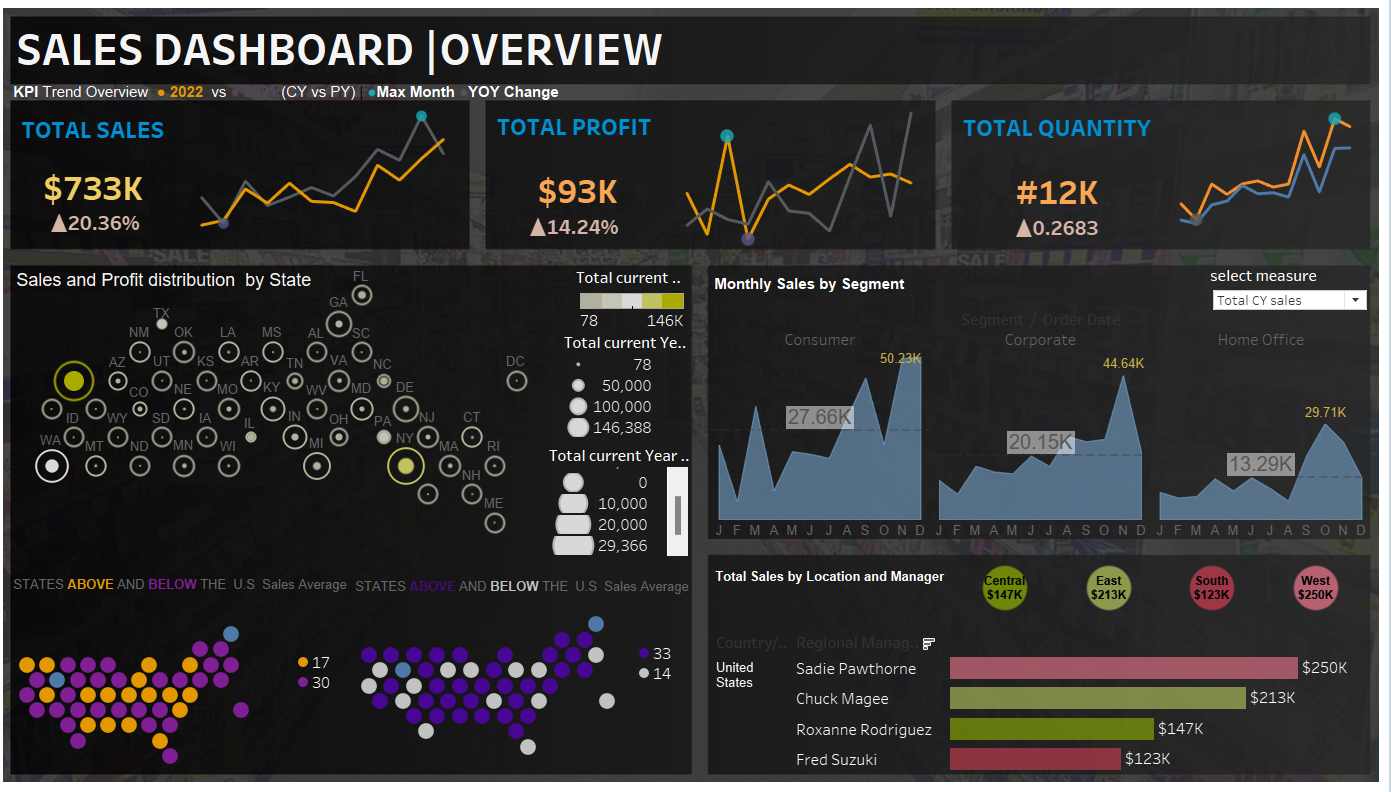

The page's visual inventory and layout, read from the dashboard file:
{"tool":"tableau","page":{"name":"sales dashboard","canvas":[1000,1000],"units":"permille","ordinal":0},"visuals":[{"type":"image","param":"C:/Users/USER/Desktop/data/datas/Sales Dashboard Background/Slide2.JPG","box":[5.7,10,988.6,980]},{"type":"text","box":[15.7,31.2,478.6,69.8]},{"type":"text","box":[13.6,111,472.1,21.2]},{"type":"worksheet","title":"PRO KPI ","mark":"Automatic","box":[353.6,132.2,125.7,187]},{"type":"worksheet","title":"Profit sparkline","mark":"Automatic","rows":["min max month (copy)_3950782831580618764"],"cols":["Order Date"],"box":[479.3,132.2,195,187]},{"type":"worksheet","title":"Sales KPI","mark":"Automatic","box":[14.3,133.4,117.1,184.5]},{"type":"worksheet","title":"Sales sparkline","mark":"Automatic","rows":["Calculation_3950782831573442571"],"cols":["Order Date"],"box":[131.4,133.4,210,184.5]},{"type":"worksheet","title":"qty KPI ","mark":"Automatic","box":[687.1,135.9,148.6,180.8]},{"type":"worksheet","title":"Qty sparkline ","mark":"Automatic","rows":["min max month profit (copy)_3950782831582687245"],"cols":["Order Date"],"box":[835.7,135.9,148.6,180.8]},{"type":"text","box":[15.7,337.9,224.3,37.4]},{"type":"parameter","param":"[Parameters].[Parameter 1]","box":[870.7,337.9,114.3,59.9]},{"type":"worksheet","title":"Sales & profit by state","mark":"Circle","rows":["Row"],"cols":["Column","Column"],"box":[15,340.4,384.3,354.1]},{"type":"legend","title":"Sales & profit by state","param":"[federated.0xhmtja18k0qlg1b3coiw0akdf86].[sum:Calculation_3950782831559045120:qk","box":[417.9,340.4,80,81]},{"type":"text","box":[514.3,342.9,152.9,37.4]},{"type":"worksheet","title":"Monthly sales by segments","mark":"Area","rows":["Calculation_3950782831653326869"],"cols":["Segment","Order Date"],"box":[513.6,392.8,472.1,288]},{"type":"legend","title":"Sales & profit by state","param":"[federated.0xhmtja18k0qlg1b3coiw0akdf86].[sum:Calculation_3950782831559045120:qk","box":[409.3,421.4,89.3,135.9]},{"type":"legend","title":"Sales & profit by state","param":"[federated.0xhmtja18k0qlg1b3coiw0akdf86].[sum:Total current Year sales (copy)_39","box":[398.6,562.3,100.7,138.4]},{"type":"worksheet","title":"Region wise sales","mark":"Circle","cols":["Region"],"box":[687.1,697,296.4,86]},{"type":"text","box":[515,708.2,168.6,37.4]},{"type":"text","box":[13.6,720.7,257.9,31.2]},{"type":"text","box":[257.9,730.7,245.7,17.5]},{"type":"worksheet","title":"Avg profit by state","mark":"Circle","rows":["Row"],"cols":["Column"],"box":[255.7,766.8,198.6,190.8]},{"type":"worksheet","title":"Avg sales by state","mark":"Circle","rows":["Row"],"cols":["Column"],"box":[12.1,779.3,180,189.5]},{"type":"worksheet","title":"Total Sales by Location and Manager","mark":"Automatic","rows":["Country/Region","Regional Manager"],"cols":["Calculation_3950782831559045120"],"box":[513.6,796.8,470.7,175.8]},{"type":"worksheet","title":"Average profit by state count ","mark":"Circle","rows":["sales avg color (copy)_3950782831640555539"],"box":[445,809.2,56.4,52.4]},{"type":"worksheet","title":"Average sales by state count","mark":"Circle","rows":["Calculation_3950782831637987344"],"box":[201.4,820.5,50,51.1]}]}

Visuals, with their boxes on the dashboard's canvas, which has no fixed pixel size, in thousandths of its width and height (x1, y1, x2, y2). These are canvas units, not pixel positions in the 1391x792 screenshot, which may show the page scaled, cropped or inside an application window:
image: <bbox>6, 10, 994, 990</bbox>
text: <bbox>16, 31, 494, 101</bbox>
text: <bbox>14, 111, 486, 132</bbox>
"PRO KPI " worksheet: <bbox>354, 132, 479, 319</bbox>
"Profit sparkline" worksheet: <bbox>479, 132, 674, 319</bbox>
"Sales KPI" worksheet: <bbox>14, 133, 131, 318</bbox>
"Sales sparkline" worksheet: <bbox>131, 133, 341, 318</bbox>
"qty KPI " worksheet: <bbox>687, 136, 836, 317</bbox>
"Qty sparkline " worksheet: <bbox>836, 136, 984, 317</bbox>
text: <bbox>16, 338, 240, 375</bbox>
parameter: <bbox>871, 338, 985, 398</bbox>
"Sales & profit by state" worksheet (Circle marks): <bbox>15, 340, 399, 694</bbox>
"Sales & profit by state" legend: <bbox>418, 340, 498, 421</bbox>
text: <bbox>514, 343, 667, 380</bbox>
"Monthly sales by segments" worksheet (Area marks): <bbox>514, 393, 986, 681</bbox>
"Sales & profit by state" legend: <bbox>409, 421, 499, 557</bbox>
"Sales & profit by state" legend: <bbox>399, 562, 499, 701</bbox>
"Region wise sales" worksheet (Circle marks): <bbox>687, 697, 984, 783</bbox>
text: <bbox>515, 708, 684, 746</bbox>
text: <bbox>14, 721, 272, 752</bbox>
text: <bbox>258, 731, 504, 748</bbox>
"Avg profit by state" worksheet (Circle marks): <bbox>256, 767, 454, 958</bbox>
"Avg sales by state" worksheet (Circle marks): <bbox>12, 779, 192, 969</bbox>
"Total Sales by Location and Manager" worksheet: <bbox>514, 797, 984, 973</bbox>
"Average profit by state count " worksheet (Circle marks): <bbox>445, 809, 501, 862</bbox>
"Average sales by state count" worksheet (Circle marks): <bbox>201, 820, 251, 872</bbox>
